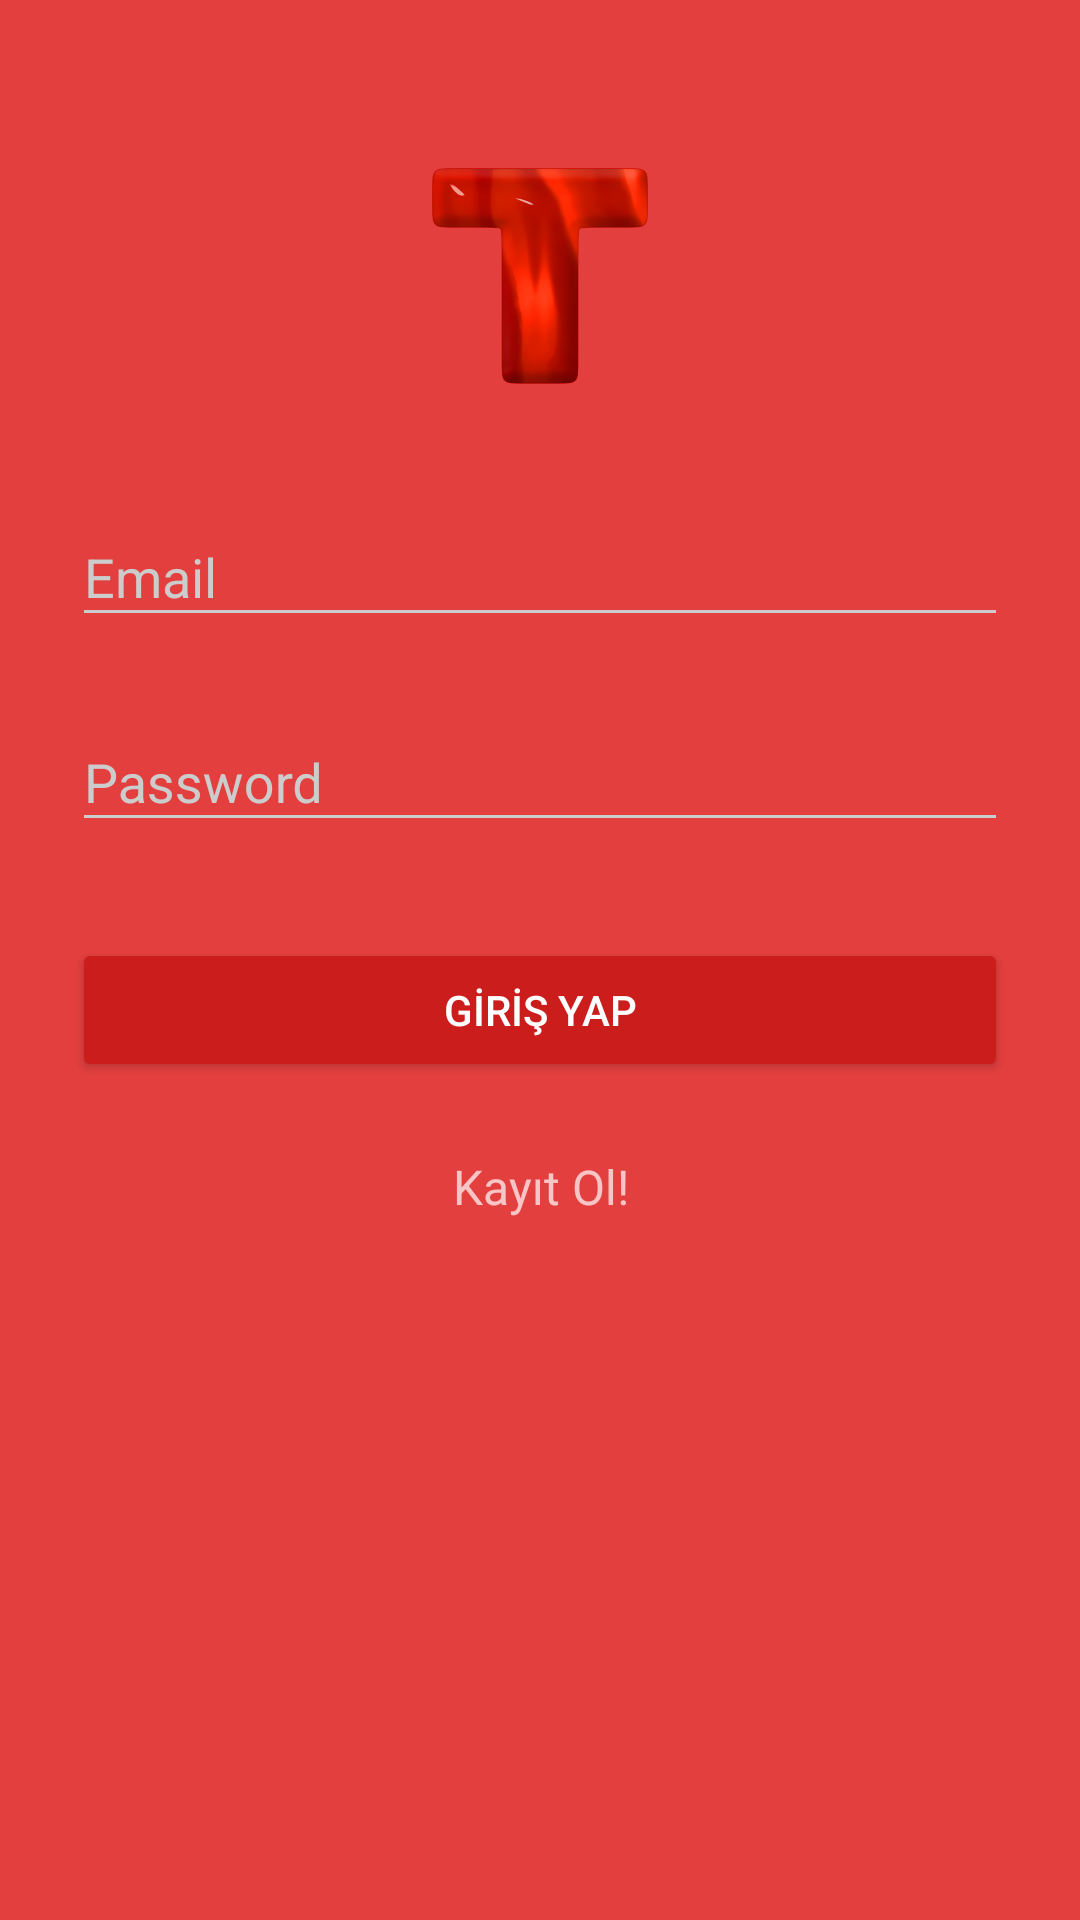

Locate icon controls on the screen. Image size 1080w x 1920h, boxes as detection(x1, y1, x2, y2).
icont: detection(432, 168, 648, 384)
